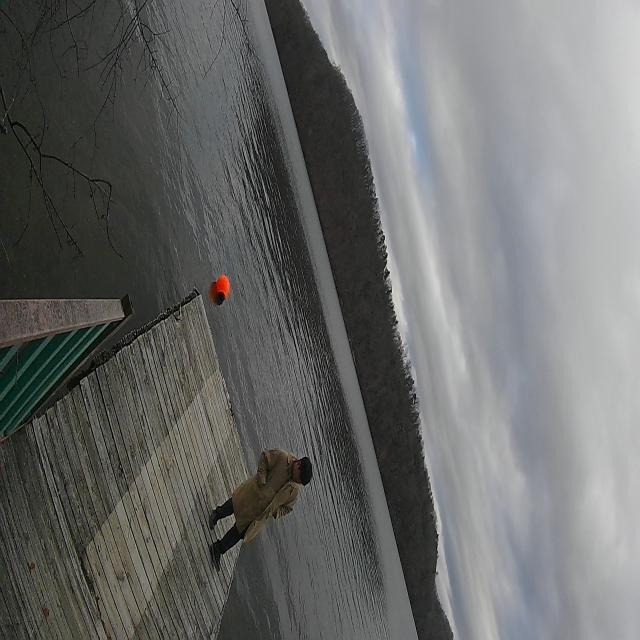Buoy: (209, 265, 234, 314)
